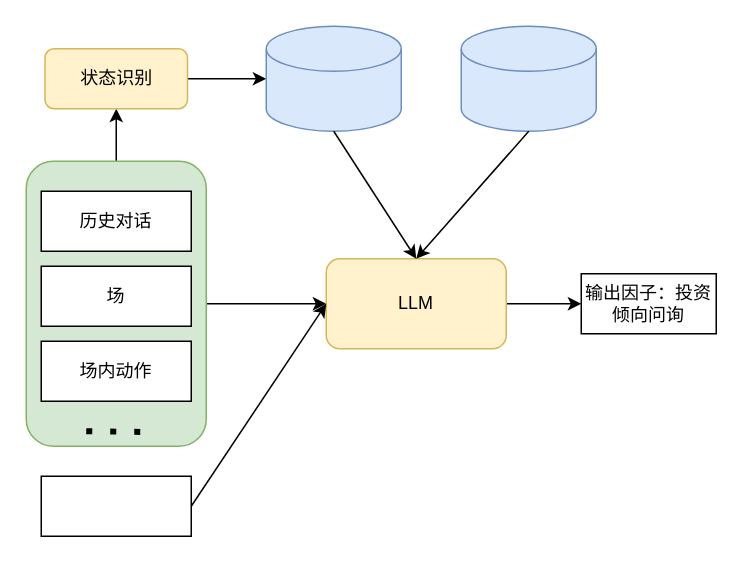
The diagram is 743 pixels wide and 563 high, and some of its shapes have lost their labels. The shapes that lost their labels are listed below. From the top down, each one's centre as x and y in pixels, then its label:
At [333,78]: "状态策划案".
At [528,78]: "候选因子".
At [115,505]: "用户画像".
